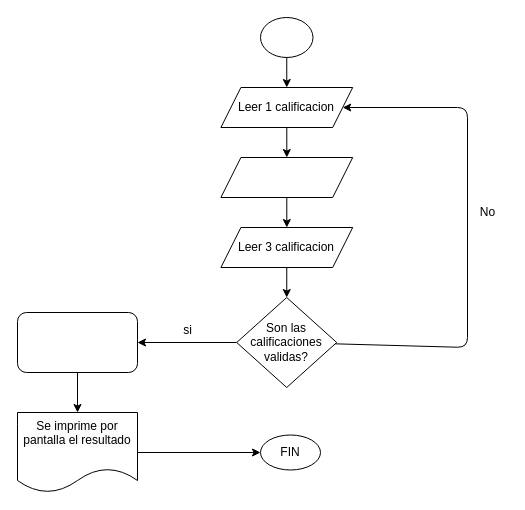
This 525x510 diagram has some shape labels left out. The centre of each missing label's shape, as x and y in pixels:
Inicio: the point at 286,37
Leer 2 calificacion: the point at 286,177
Se calcula la media de las calificaciones: the point at 77,342
